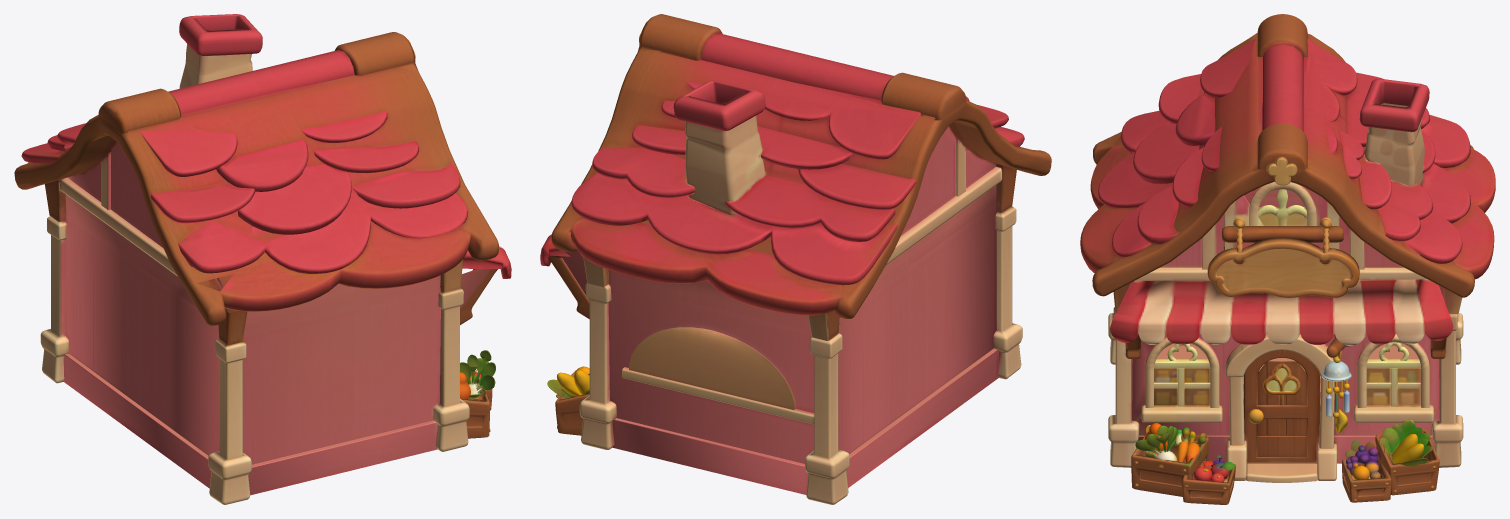
File: C02_bld_shop_granny.fbx
3 renders of one model, left to right at view 1: azimuth 30°, elevation 25°; view 2: azimuth 150°, elevation 25°; view 3: azimuth 270°, elevation 25°, orthographic. The views are drawn at different scales.
Visible parts, largest first — view 1: tripo_node_6c829ba7; view 2: tripo_node_6c829ba7; view 3: tripo_node_6c829ba7.
Part boxes in pixels (x1=…): tripo_node_6c829ba7: x1=14, y1=14, x2=511, y2=504; tripo_node_6c829ba7: x1=540, y1=14, x2=1051, y2=504; tripo_node_6c829ba7: x1=1080, y1=14, x2=1495, y2=504.
Size of the model in its own units: 0.9009 by 0.8911 by 0.9995.
